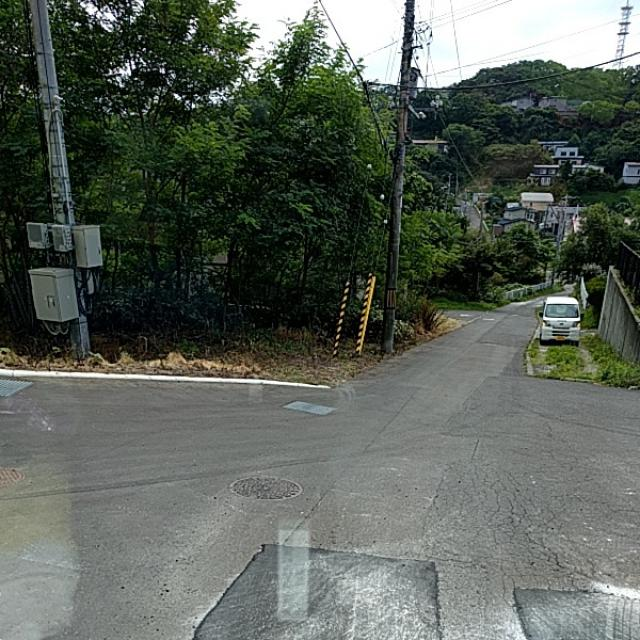pothole: (428, 454, 626, 584)
